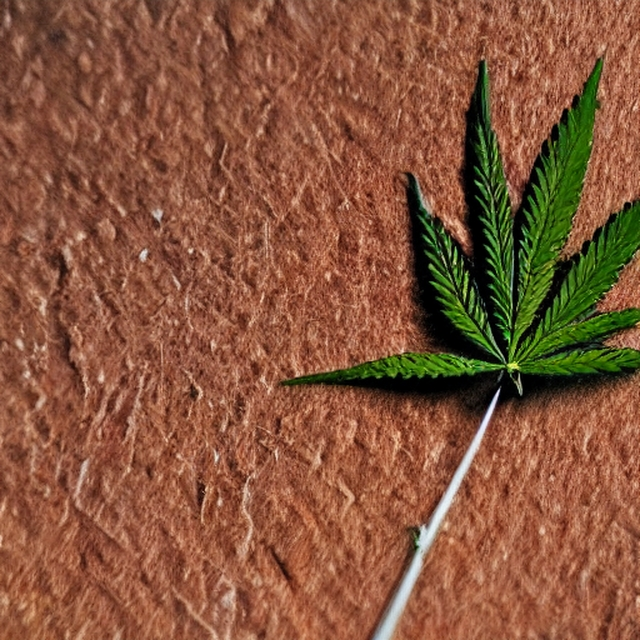Marijuana Leaf: (279, 52, 639, 397)
